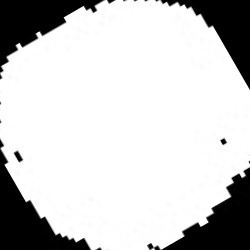spot: (2, 1, 248, 247)
